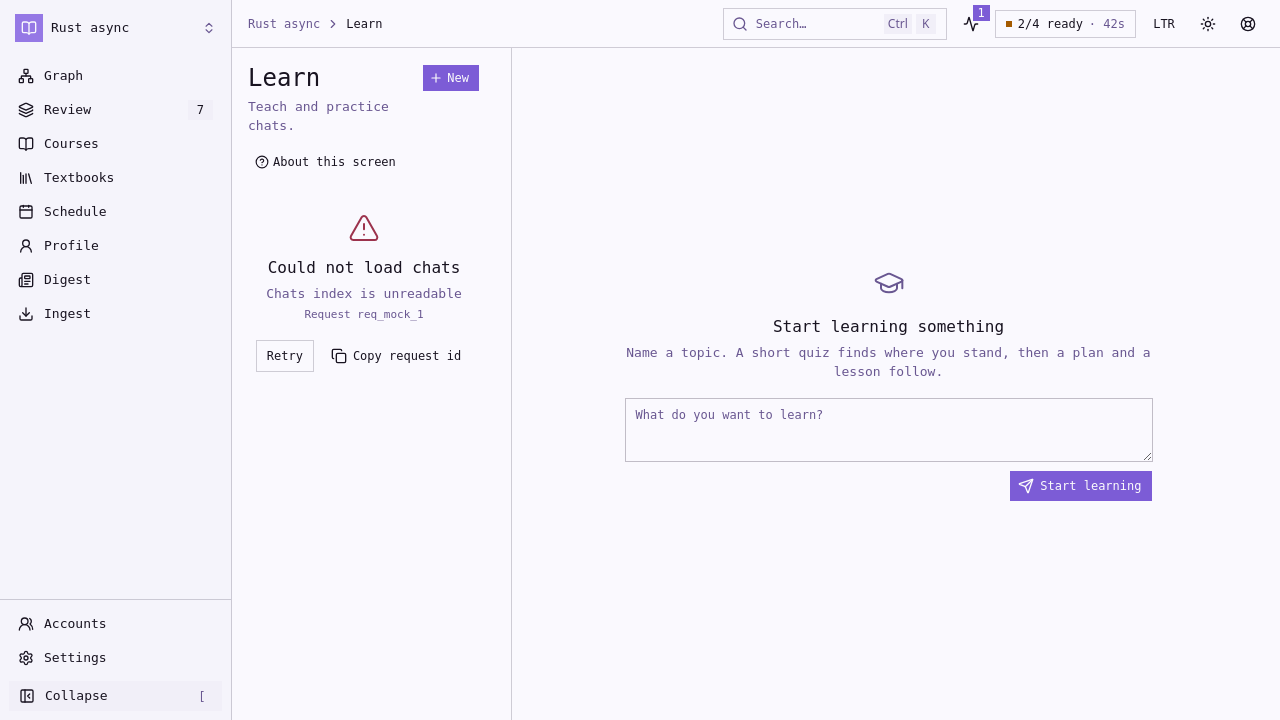
Test case: ChatList › has an error state with retry
The width and height of the screenshot is (1280, 720).
Expected: the text "Chats index is unreadable" is shown, [266, 284, 462, 303]
Click the button with test id "error-retry": (285, 356) [256, 340, 314, 372]
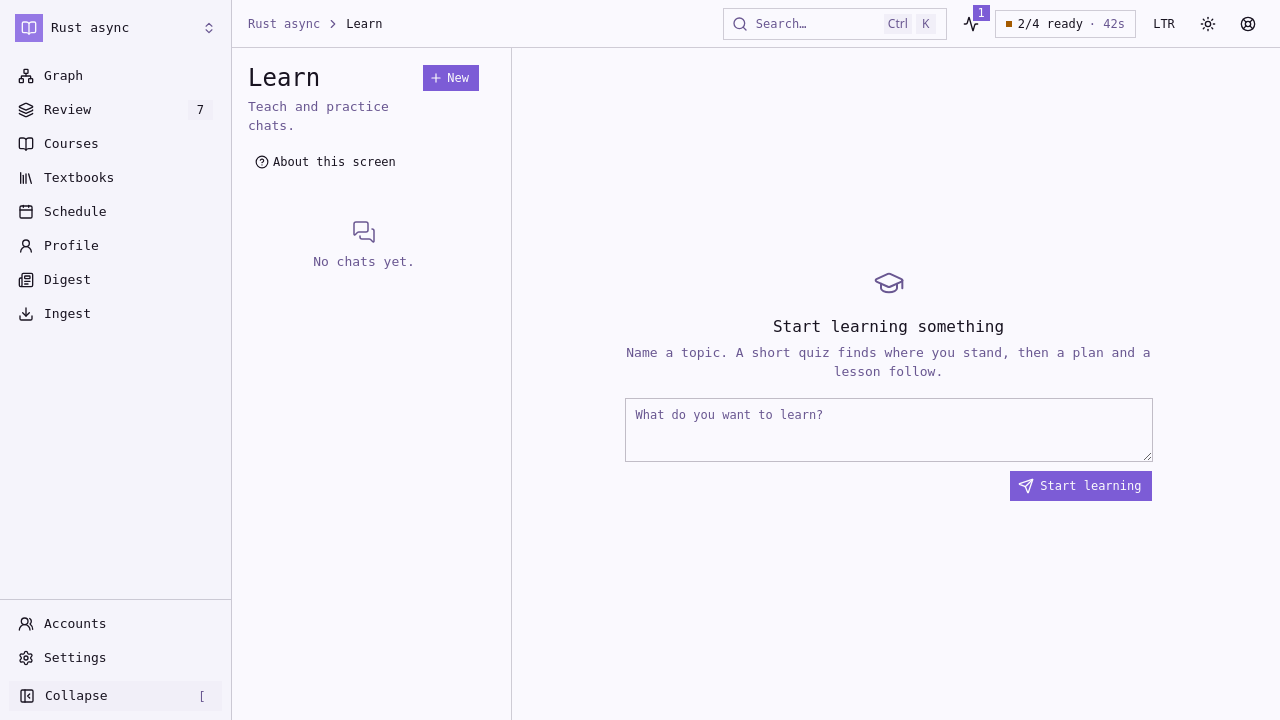
Result: the element with test id "chat-list-empty" is shown at [313, 220, 415, 269]
